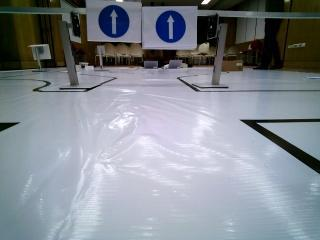straight: (143, 5, 196, 50), (88, 0, 139, 43)
